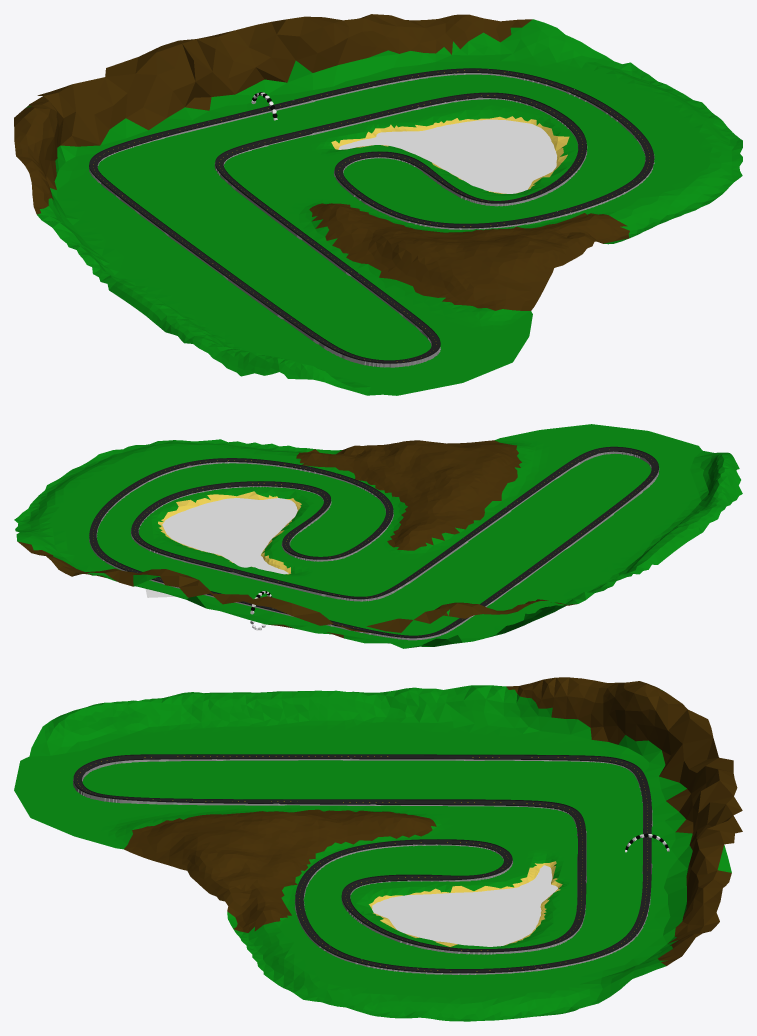
File: rata1nocamerauusi.fbx
3 views of the same model, one above another, from view 1: azimuth 30°, elevation 25°; view 2: azimuth 150°, elevation 25°; view 3: azimuth 270°, elevation 25° (orthographic). The views are drawn at different scales.
Parts seen in each view (by area): view 1: Terrajn, rata :D, wöter, track shrinkwrap; view 2: Terrajn, rata :D, wöter, track shrinkwrap; view 3: Terrajn, rata :D, wöter, track shrinkwrap.
Part boxes in pixels (x1,y1,x2,y2): Terrajn: (14, 14, 742, 395); rata :D: (89, 68, 654, 363); wöter: (338, 119, 556, 193); track shrinkwrap: (89, 69, 654, 367); Terrajn: (14, 424, 742, 648); rata :D: (89, 446, 658, 638); wöter: (145, 498, 297, 597); track shrinkwrap: (89, 451, 659, 643); Terrajn: (14, 677, 742, 1021); rata :D: (73, 754, 651, 973); wöter: (372, 865, 557, 946); track shrinkwrap: (73, 758, 652, 974).
Bounding box in the file's own units: 3346 × 431 × 3325.
